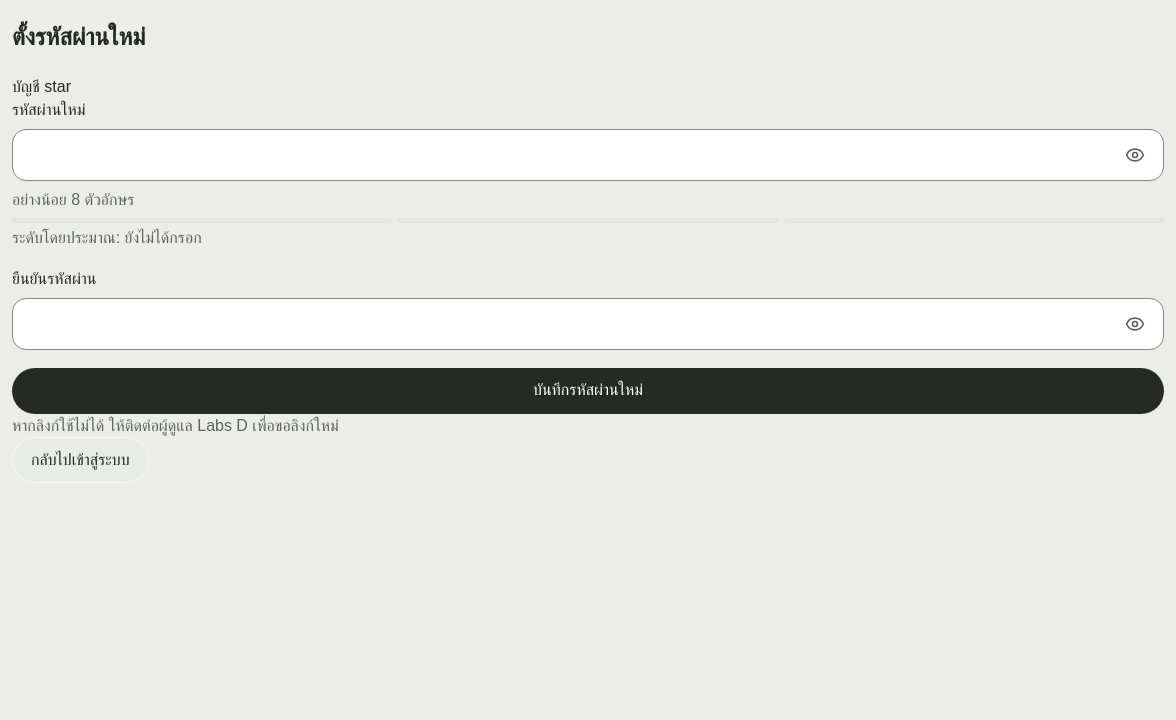
Test: invitation credential forms › reset success removes the fragment and requires new login
Check: the text "บัญชี star" is shown, box [12,78,71,95]
Type "ijklmnop" into the password field labelled "รหัสผ่านใหม่" at (588, 155), box [12,129,1164,181]
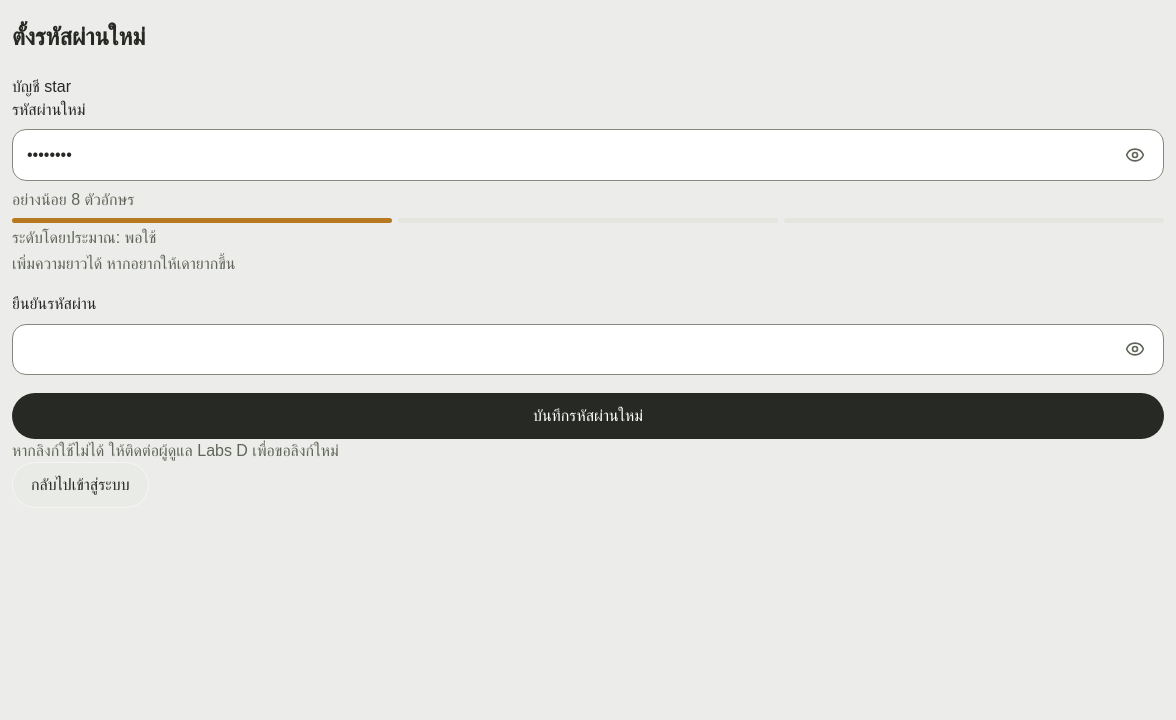
Type "ijklmnop" into the password field labelled "ยืนยันรหัสผ่าน" at (588, 349), box [12,324,1164,375]
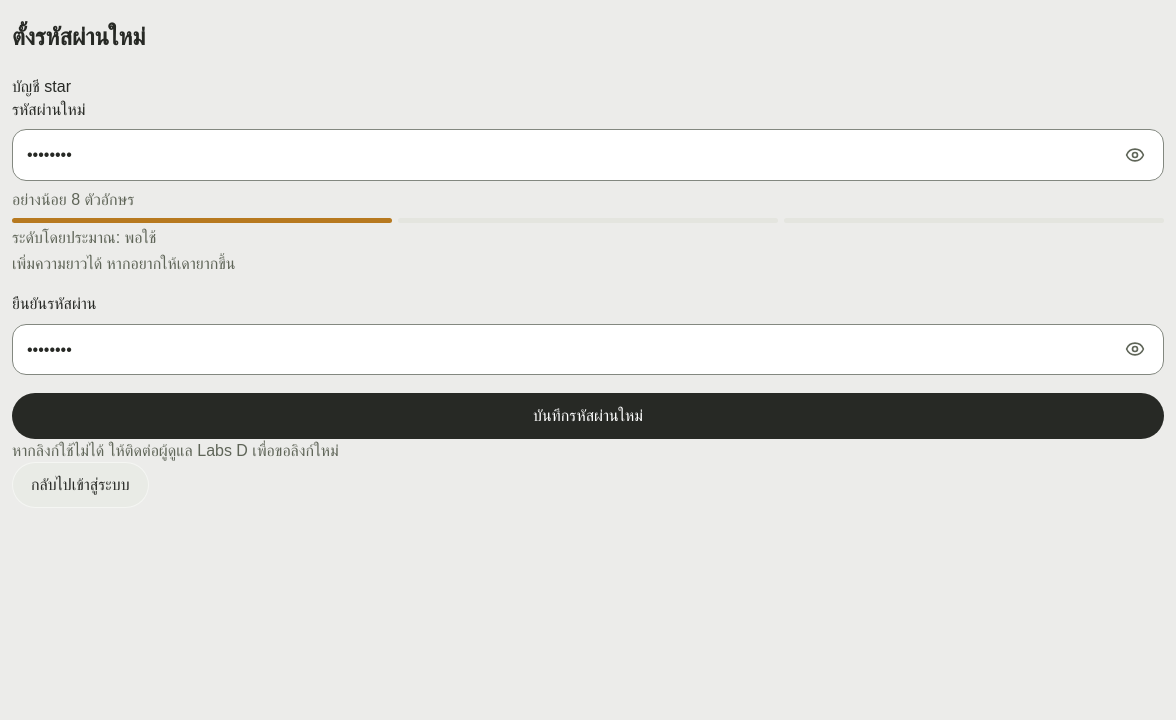
Submit the form named "บันทึกรหัสผ่านใหม่", box [12,98,1164,439]
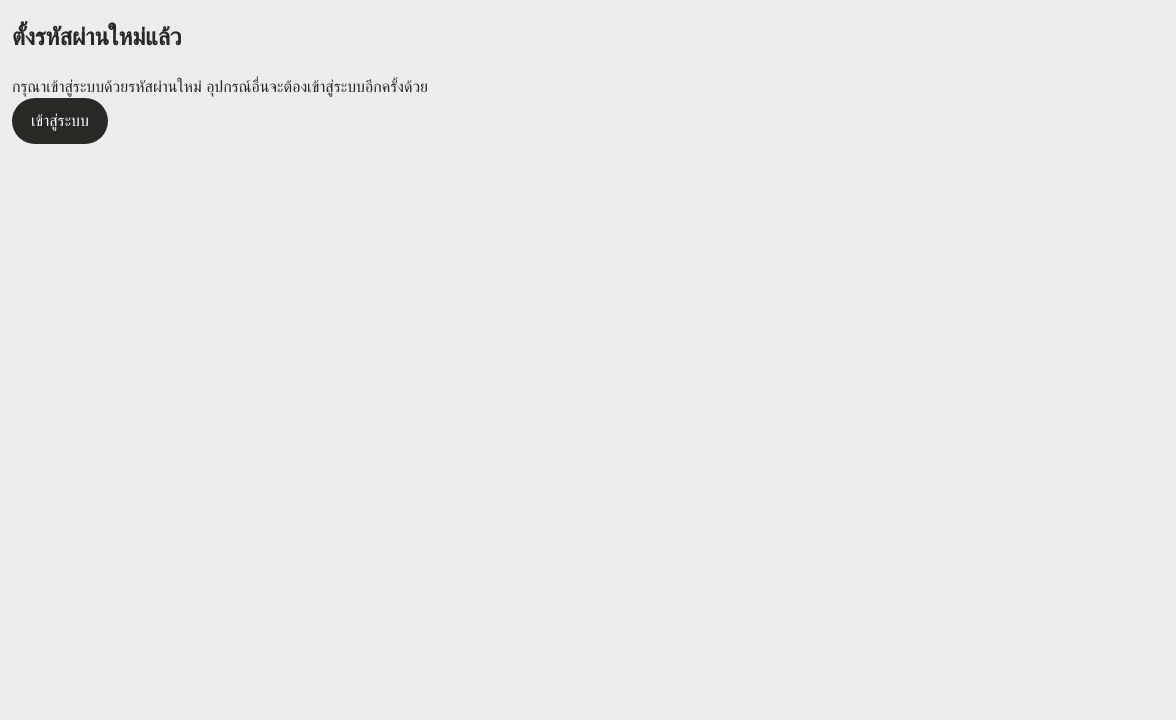
Check: the heading "ตั้งรหัสผ่านใหม่แล้ว" is shown, box [12,23,182,50]
